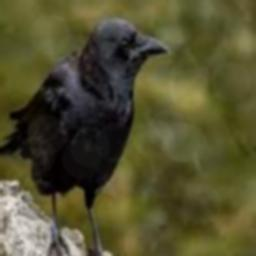Crow: (0, 18, 170, 256)
